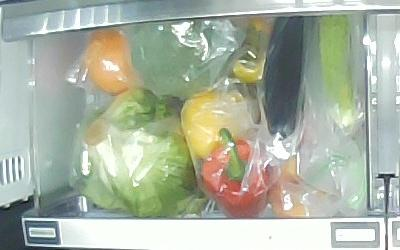broccoli_vinyl: (132, 20, 238, 101)
cucumber_vinyl: (316, 14, 357, 130)
eggplant_vinyl: (263, 14, 305, 139)
grapefruit_vinyl: (85, 28, 140, 96)
lettuce_vinyl: (77, 88, 196, 217)
paprika_vinyl: (201, 128, 271, 217), (180, 90, 247, 159)
peach_vinyl: (268, 157, 310, 218)
persimmon_vinyl: (232, 18, 271, 83)
